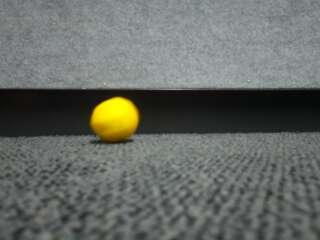lemon: (91, 97, 140, 142)
